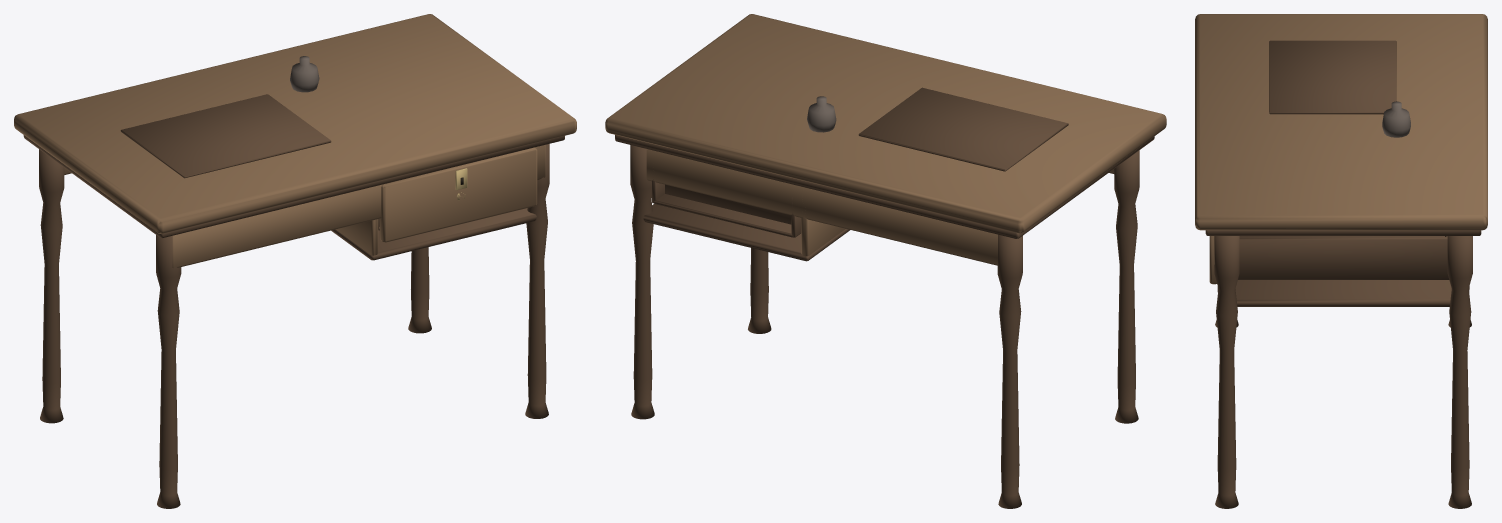
Rendered from desk.glb.
3 renders of one model, left to right at view 1: azimuth 30°, elevation 25°; view 2: azimuth 150°, elevation 25°; view 3: azimuth 270°, elevation 25°, orthographic.
Visible parts, largest first — view 1: desk_mesh, drawer_mesh; view 2: desk_mesh, drawer_mesh; view 3: desk_mesh, drawer_mesh.
Part boxes in pixels (x1,y1,x2,y2): desk_mesh: (14,14,576,508); drawer_mesh: (378,147,537,242); desk_mesh: (605,14,1166,508); drawer_mesh: (652,170,801,237); desk_mesh: (1195,14,1487,508); drawer_mesh: (1209,236,1449,284).
Size of the model in its own units: 1.14 by 0.855 by 0.69.
